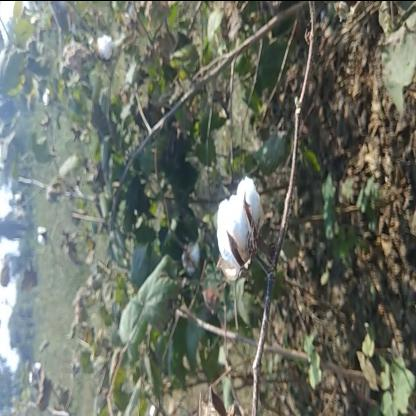cotton_ready: (210, 161, 280, 293)
